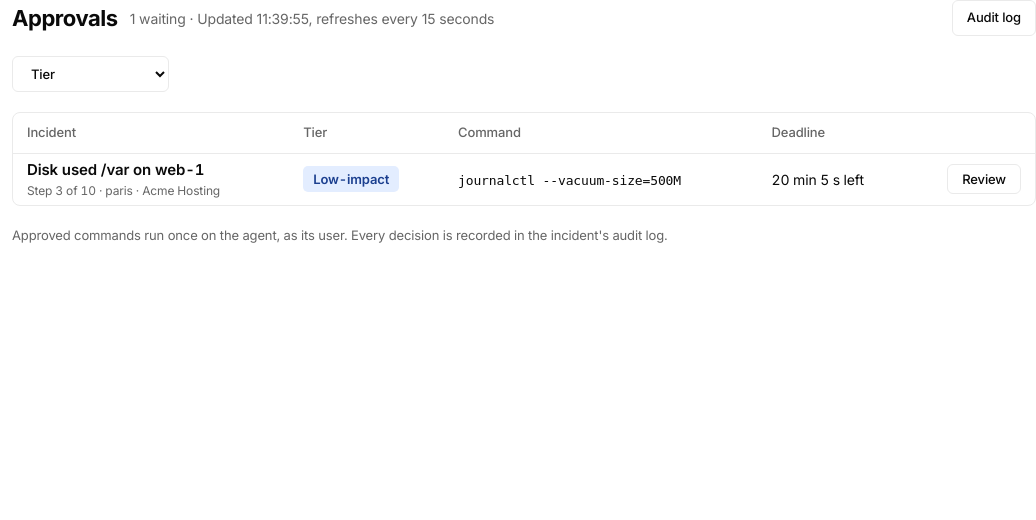
Test case: ApprovalQueue › does not warn when the server is snapshotted first
This screenshot has width=1036, height=520.
Click the button with aria-label "Review the command for web-1": (984, 179) x1=947 y1=164 x2=1021 y2=194
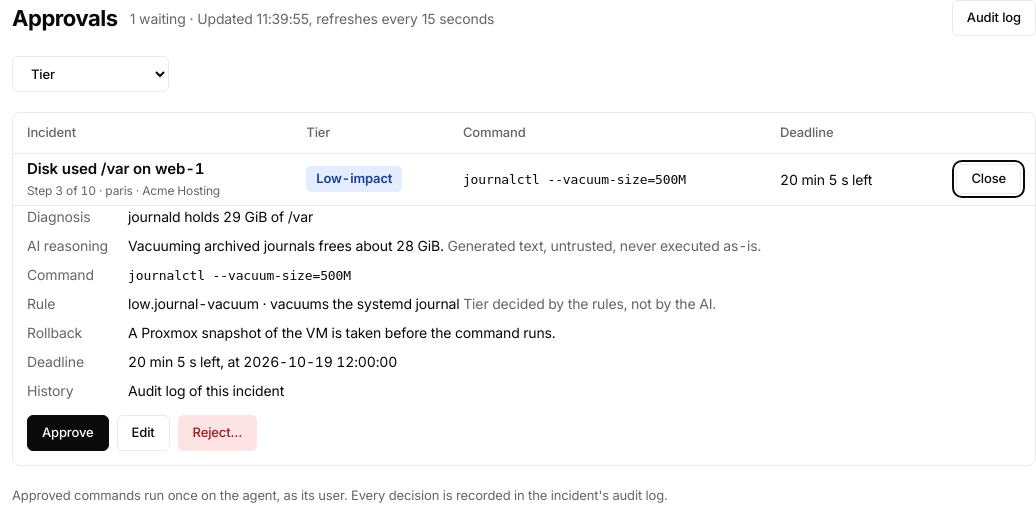
Check: the text "A Proxmox snapshot of the VM is taken" is shown, box x1=128 y1=324 x2=556 y2=341
